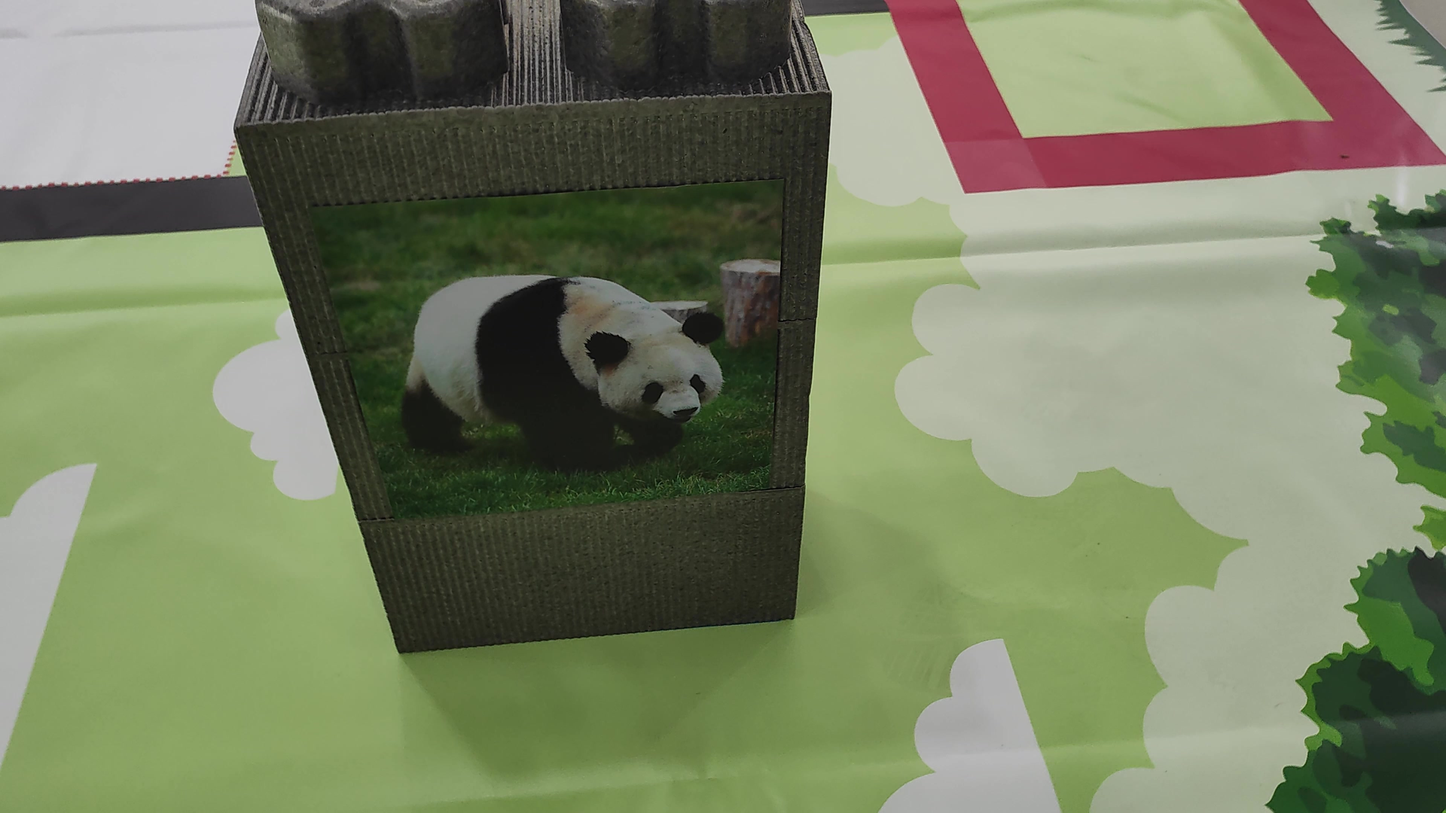panda: (375, 239, 742, 487)
